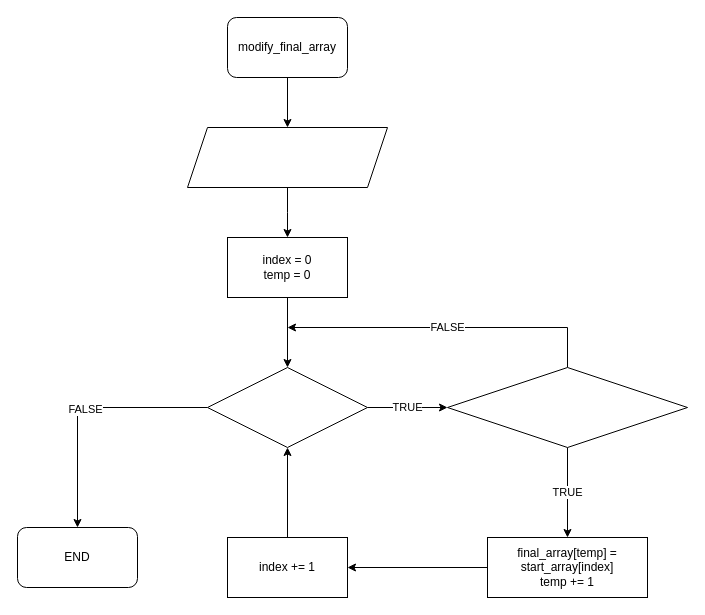
Image size: 705x615. Some labels were removed from this diagram. The centre of each missing label's shape, as x and y in pixels:
index < start_array.Length: (x=287, y=407)
start_array[index].Length <= 3: (x=567, y=407)
string[] start_array string[] final_array: (x=287, y=157)
